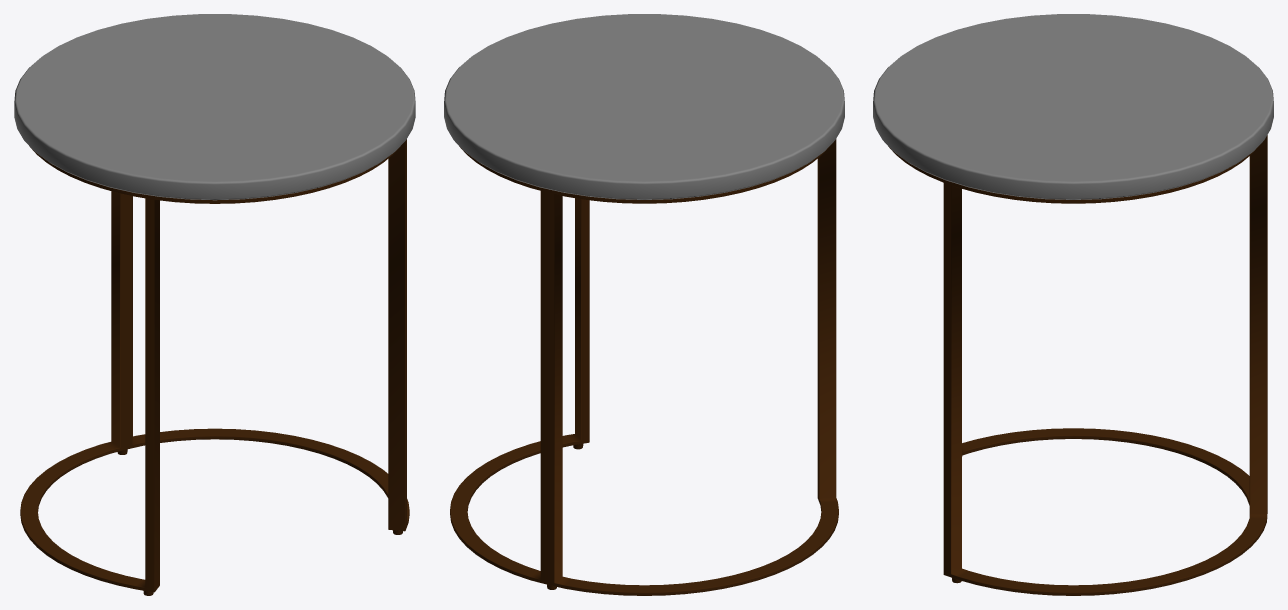
The model's file is TBL_MediaLuna.FBX.
The picture shows the model from 3 angles, left to right: view 1: azimuth 30°, elevation 25°; view 2: azimuth 150°, elevation 25°; view 3: azimuth 270°, elevation 25°; orthographic projection.
Parts seen in each view (by area): view 1: TBL_MediaLuna; view 2: TBL_MediaLuna; view 3: TBL_MediaLuna.
Part boxes in pixels (left/top/right/bottom): TBL_MediaLuna: left=14, top=14, right=415, bottom=595; TBL_MediaLuna: left=444, top=14, right=844, bottom=595; TBL_MediaLuna: left=873, top=14, right=1273, bottom=595.
Bounding box in the file's own units: 23.1 × 26.9 × 23.11.
